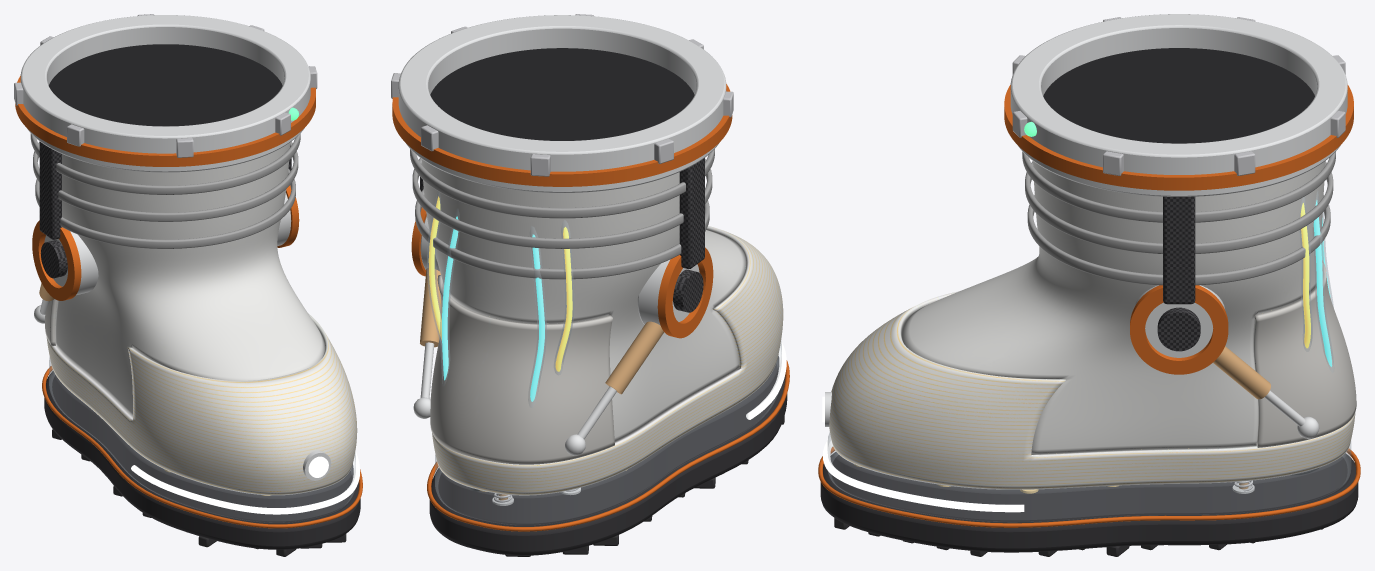
Rendered from boot.glb.
3 renders of one model, left to right at view 1: azimuth 30°, elevation 25°; view 2: azimuth 150°, elevation 25°; view 3: azimuth 270°, elevation 25°, orthographic. The views are drawn at different scales.
Visible parts, largest first — view 1: LUNAX_Boot_Flight_Upper_TMG_Fabric, LUNAX_Boot_Flight_ToeCap_EDS_DustShield, LUNAX_Boot_Flight_Suit_Bearing_Ring, LUNAX_Boot_Flight_Outsole, LUNAX_Boot_Flight_Inner_Liner, LUNAX_Boot_Flight_Sensor_Midsole, LUNAX_Boot_Flight_Bearing_Lock_Band, LUNAX_Boot_Flight_Dust_Gaiter_2, LUNAX_Boot_Flight_Dust_Gaiter_3, LUNAX_Boot_Flight_Dust_Gaiter_1, LUNAX_Boot_Flight_Exo_Strut_Med, LUNAX_Boot_Flight_Outsole_Piping (+8 smaller); view 2: LUNAX_Boot_Flight_Upper_TMG_Fabric, LUNAX_Boot_Flight_Suit_Bearing_Ring, LUNAX_Boot_Flight_Heel_Counter, LUNAX_Boot_Flight_Outsole, LUNAX_Boot_Flight_Inner_Liner, LUNAX_Boot_Flight_ToeCap_EDS_DustShield, LUNAX_Boot_Flight_Sensor_Midsole, LUNAX_Boot_Flight_Bearing_Lock_Band, LUNAX_Boot_Flight_Dust_Gaiter_2, LUNAX_Boot_Flight_Dust_Gaiter_3, LUNAX_Boot_Flight_Dust_Gaiter_1, LUNAX_Boot_Flight_Thermal_Loop_Supply_Tube (+16 smaller); view 3: LUNAX_Boot_Flight_Upper_TMG_Fabric, LUNAX_Boot_Flight_ToeCap_EDS_DustShield, LUNAX_Boot_Flight_Outsole, LUNAX_Boot_Flight_Suit_Bearing_Ring, LUNAX_Boot_Flight_Inner_Liner, LUNAX_Boot_Flight_Sensor_Midsole, LUNAX_Boot_Flight_Heel_Counter, LUNAX_Boot_Flight_Bearing_Lock_Band, LUNAX_Boot_Flight_Ankle_Ring_Lat, LUNAX_Boot_Flight_Dust_Gaiter_2, LUNAX_Boot_Flight_Exo_Strut_Lat, LUNAX_Boot_Flight_Dust_Gaiter_3 (+13 smaller).
Part boxes in pixels (x1,y1,x2,y2): LUNAX_Boot_Flight_Upper_TMG_Fabric: (55,142,324,417); LUNAX_Boot_Flight_ToeCap_EDS_DustShield: (46,313,357,495); LUNAX_Boot_Flight_Suit_Bearing_Ring: (20,15,310,172); LUNAX_Boot_Flight_Outsole: (44,371,360,549); LUNAX_Boot_Flight_Inner_Liner: (48,44,282,126); LUNAX_Boot_Flight_Sensor_Midsole: (49,357,355,522); LUNAX_Boot_Flight_Bearing_Lock_Band: (15,76,315,166); LUNAX_Boot_Flight_Dust_Gaiter_2: (33,141,298,221); LUNAX_Boot_Flight_Dust_Gaiter_3: (30,133,300,194); LUNAX_Boot_Flight_Dust_Gaiter_1: (35,169,295,248); LUNAX_Boot_Flight_Exo_Strut_Med: (39,141,61,239); LUNAX_Boot_Flight_Outsole_Piping: (42,366,362,528); LUNAX_Boot_Flight_Upper_TMG_Fabric: (421,159,745,441); LUNAX_Boot_Flight_Suit_Bearing_Ring: (398,15,726,192); LUNAX_Boot_Flight_Heel_Counter: (430,275,614,464); LUNAX_Boot_Flight_Outsole: (429,356,787,555); LUNAX_Boot_Flight_Inner_Liner: (430,48,694,140); LUNAX_Boot_Flight_ToeCap_EDS_DustShield: (432,225,783,495); LUNAX_Boot_Flight_Sensor_Midsole: (435,341,781,524); LUNAX_Boot_Flight_Bearing_Lock_Band: (392,84,732,186); LUNAX_Boot_Flight_Dust_Gaiter_2: (412,158,712,248); LUNAX_Boot_Flight_Dust_Gaiter_3: (410,149,714,218); LUNAX_Boot_Flight_Dust_Gaiter_1: (415,189,709,279); LUNAX_Boot_Flight_Thermal_Loop_Supply_Tube: (440,209,546,407); LUNAX_Boot_Flight_Upper_TMG_Fabric: (901,161,1325,454); LUNAX_Boot_Flight_ToeCap_EDS_DustShield: (829,291,1355,489); LUNAX_Boot_Flight_Outsole: (820,448,1358,552); LUNAX_Boot_Flight_Suit_Bearing_Ring: (1010,14,1347,196); LUNAX_Boot_Flight_Inner_Liner: (1043,48,1314,143); LUNAX_Boot_Flight_Sensor_Midsole: (828,432,1350,521); LUNAX_Boot_Flight_Heel_Counter: (1253,260,1356,447); LUNAX_Boot_Flight_Bearing_Lock_Band: (1004,85,1353,190); LUNAX_Boot_Flight_Ankle_Ring_Lat: (1130,285,1228,374); LUNAX_Boot_Flight_Dust_Gaiter_2: (1025,161,1333,253); LUNAX_Boot_Flight_Exo_Strut_Lat: (1163,196,1195,304); LUNAX_Boot_Flight_Dust_Gaiter_3: (1022,152,1335,222).
Bounding box in the file's own units: 0.195 × 0.262 × 0.3026.
27 materials, 9 textured.
